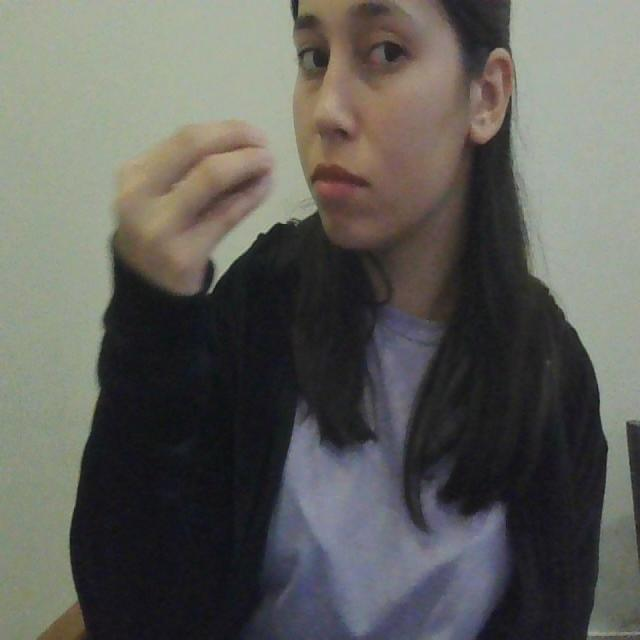Yemek: (110, 112, 332, 250)
